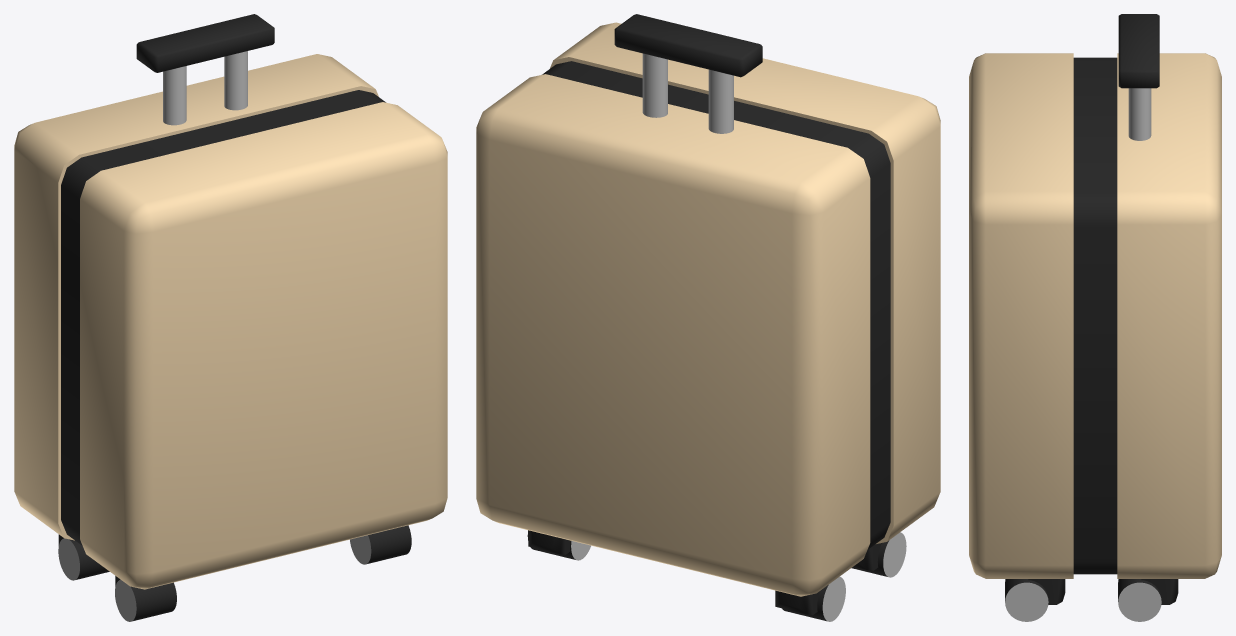
Rendered from Suitcase.fbx.
3 views of the same model, side by side, from view 1: azimuth 30°, elevation 25°; view 2: azimuth 150°, elevation 25°; view 3: azimuth 270°, elevation 25° (orthographic). The views are drawn at different scales.
Parts seen in each view (by area): view 1: Suitcase; view 2: Suitcase; view 3: Suitcase.
Part boxes in pixels (x1,y1,x2,y2): Suitcase: (14,14,447,621); Suitcase: (476,14,940,621); Suitcase: (969,14,1221,621).
Bounding box in the file's own units: 104 × 158 × 70.55.
